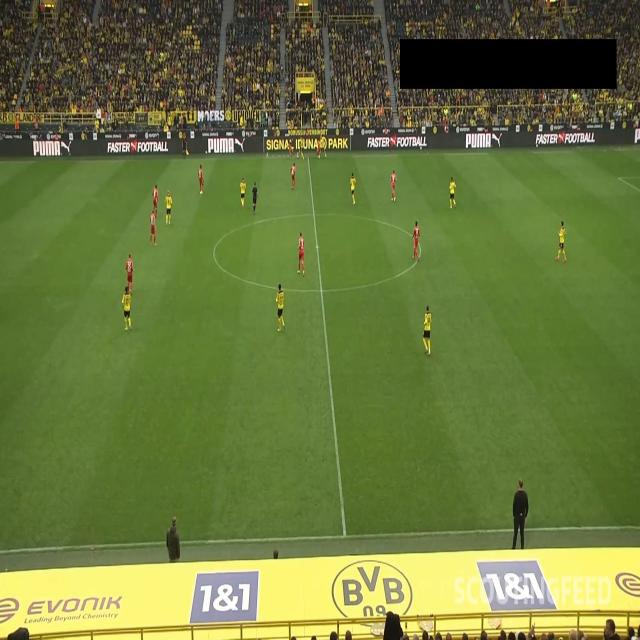ball: (296, 154, 299, 160)
